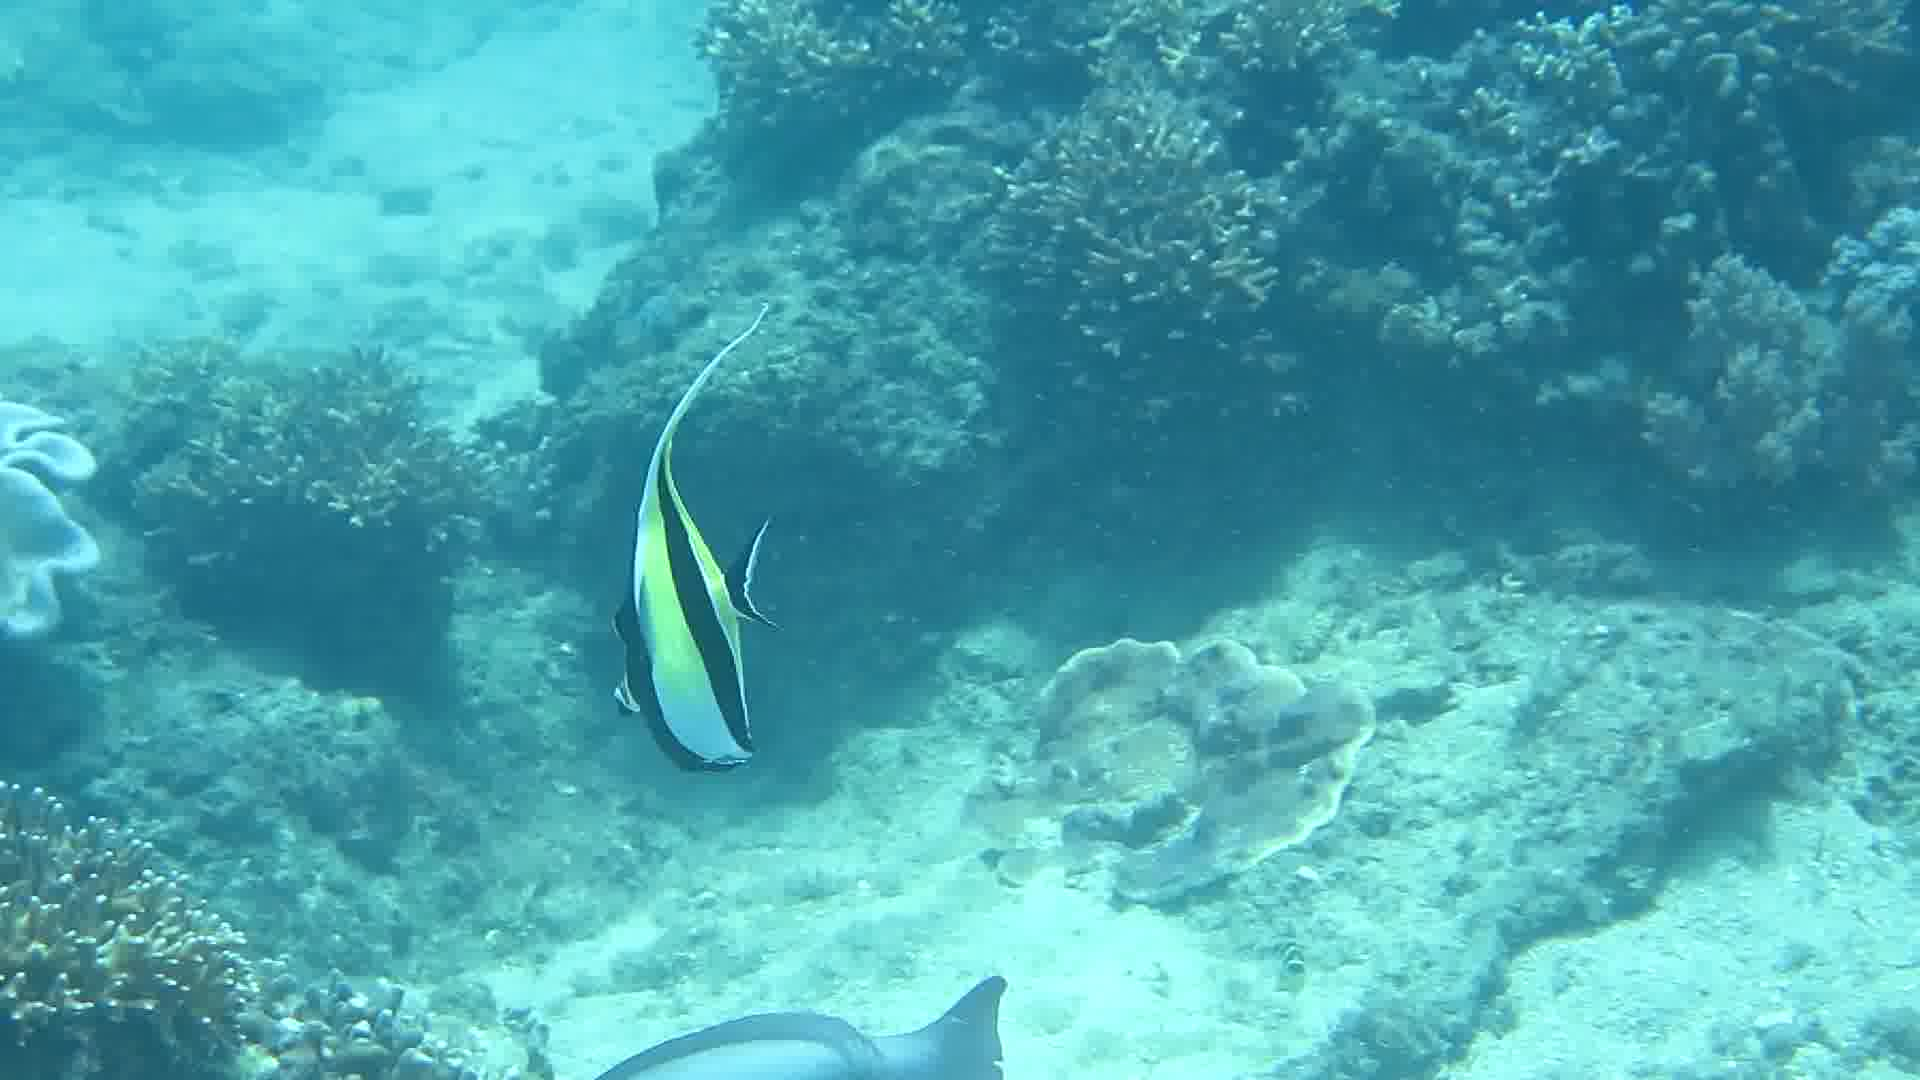Zanclus cornutus: (596, 439, 781, 803)
